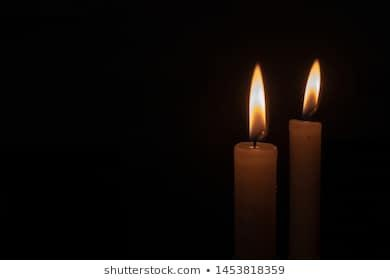fire: (244, 61, 268, 141), (300, 57, 323, 117)
